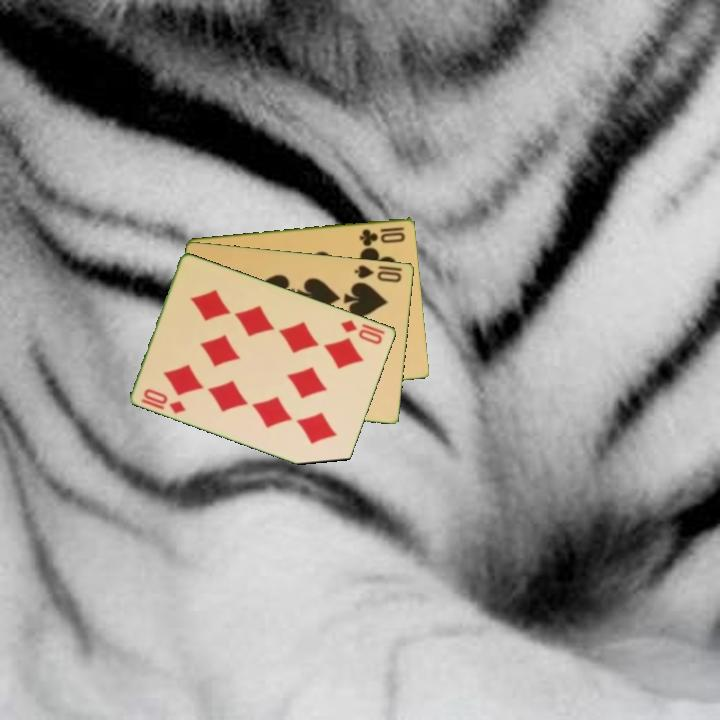10c: (356, 223, 408, 247)
10d: (140, 385, 189, 417), (338, 316, 386, 347)
10s: (351, 261, 405, 285)
